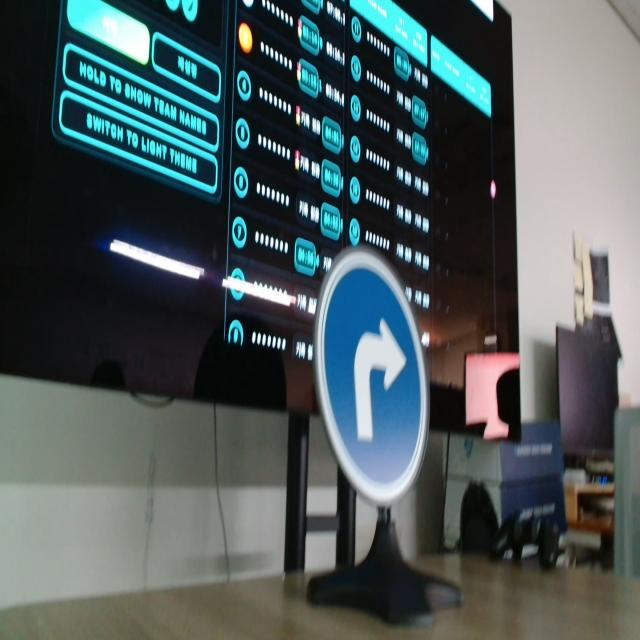right_dierection: (304, 235, 443, 501)
